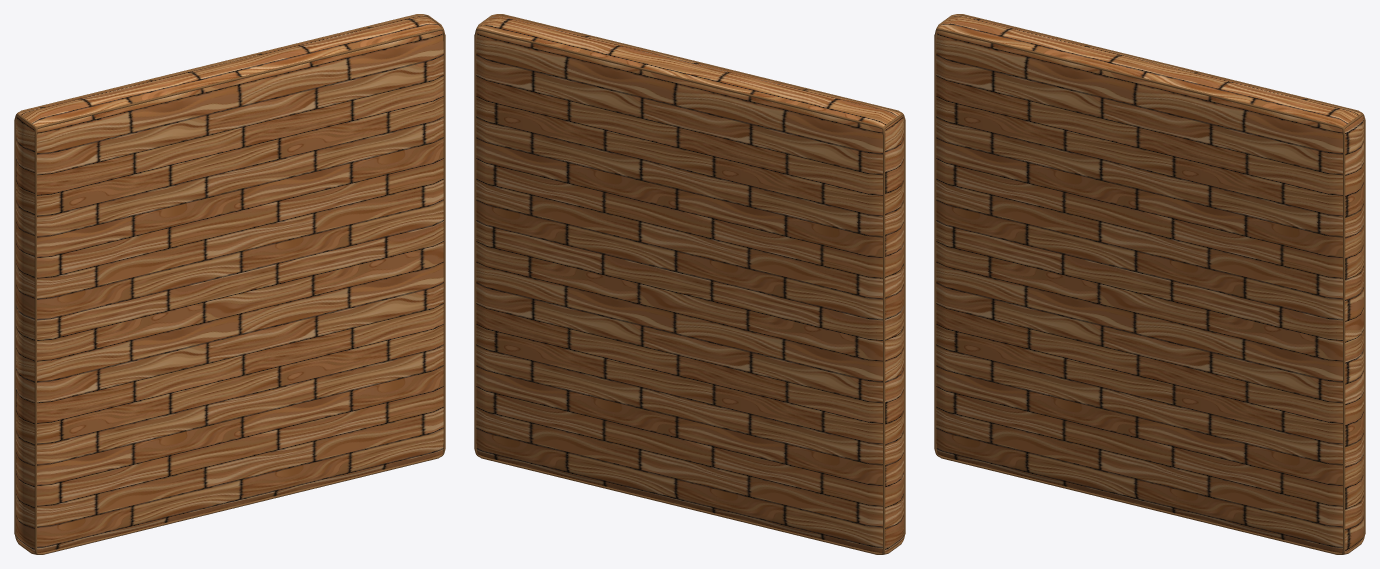
File: SM_SoftFoam_Wall_20_2x2M.fbx
3 views of the same model, side by side, from view 1: azimuth 30°, elevation 25°; view 2: azimuth 150°, elevation 25°; view 3: azimuth 330°, elevation 25° (orthographic).
Parts seen in each view (by area): view 1: SM_SoftFoam_Wall_20_2x2; view 2: SM_SoftFoam_Wall_20_2x2; view 3: SM_SoftFoam_Wall_20_2x2.
Part boxes in pixels (bbox=[...]): SM_SoftFoam_Wall_20_2x2: bbox=[14, 14, 445, 554]; SM_SoftFoam_Wall_20_2x2: bbox=[474, 14, 905, 554]; SM_SoftFoam_Wall_20_2x2: bbox=[934, 14, 1365, 554].
Bounding box in the file's own units: 190 × 190 × 20.
